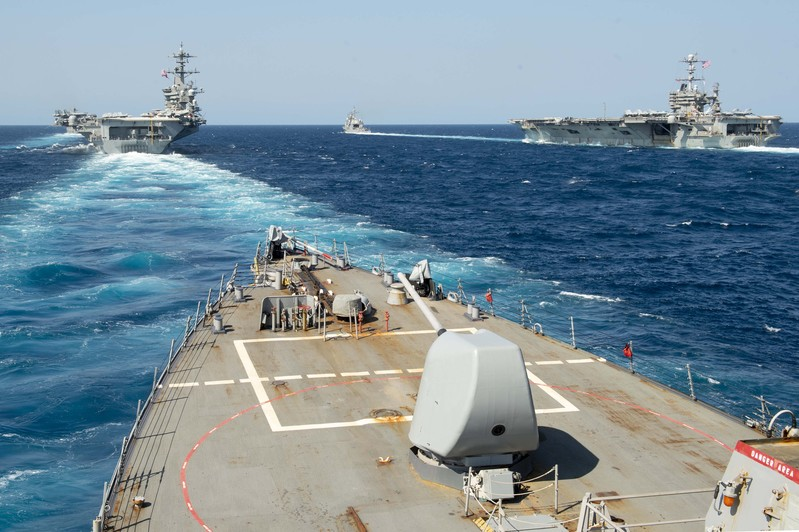rust: (593, 384, 684, 449), (338, 320, 398, 348), (369, 410, 400, 431), (269, 381, 298, 394)
